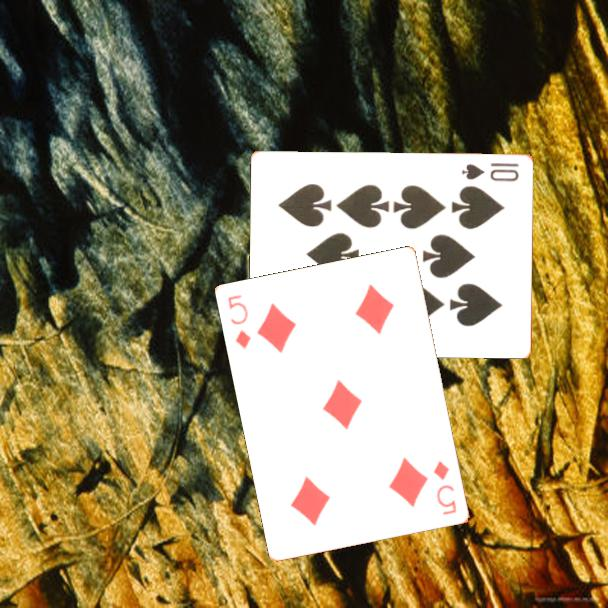d05: (430, 458, 460, 518), (225, 291, 254, 352)
s10: (458, 159, 522, 184)
